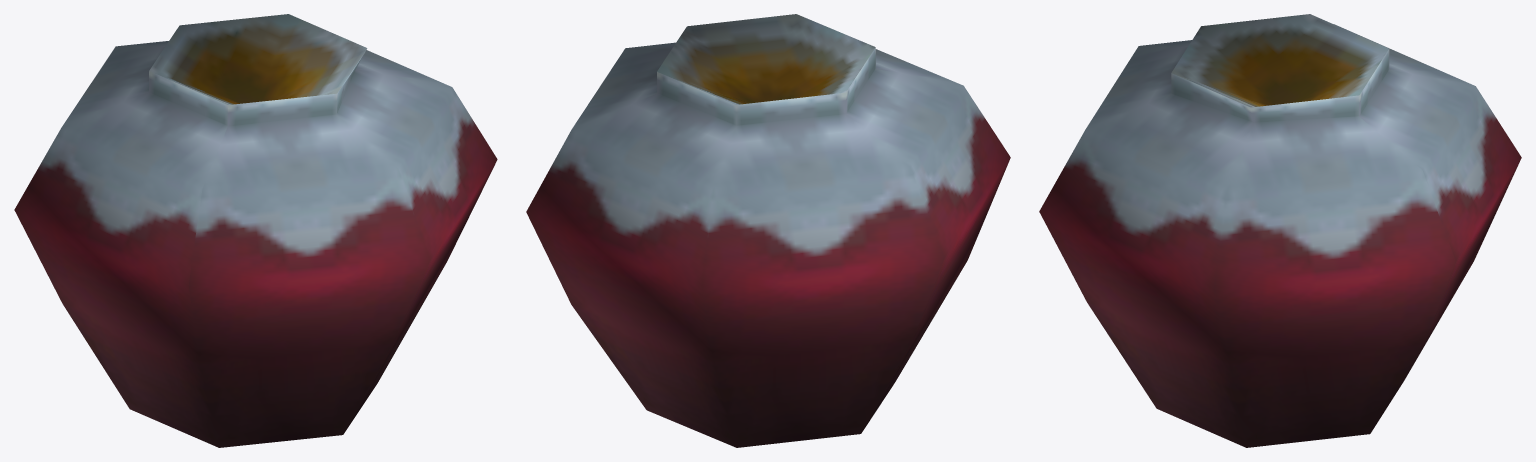
The model's file is environment_common_jiuguanzi_001.FBX.
The picture shows the model from 3 angles, left to right: view 1: azimuth 30°, elevation 25°; view 2: azimuth 150°, elevation 25°; view 3: azimuth 270°, elevation 25°; orthographic projection.
Visible parts, largest first — view 1: environment_common_jiuguanzi_001; view 2: environment_common_jiuguanzi_001; view 3: environment_common_jiuguanzi_001.
Boxes of the visible parts, x1,y1,x2,y2 form: environment_common_jiuguanzi_001: (14, 14, 497, 447); environment_common_jiuguanzi_001: (526, 14, 1010, 447); environment_common_jiuguanzi_001: (1039, 14, 1521, 447).
Size of the model in its own units: 138 by 107 by 138.
1 material, 1 textured.
